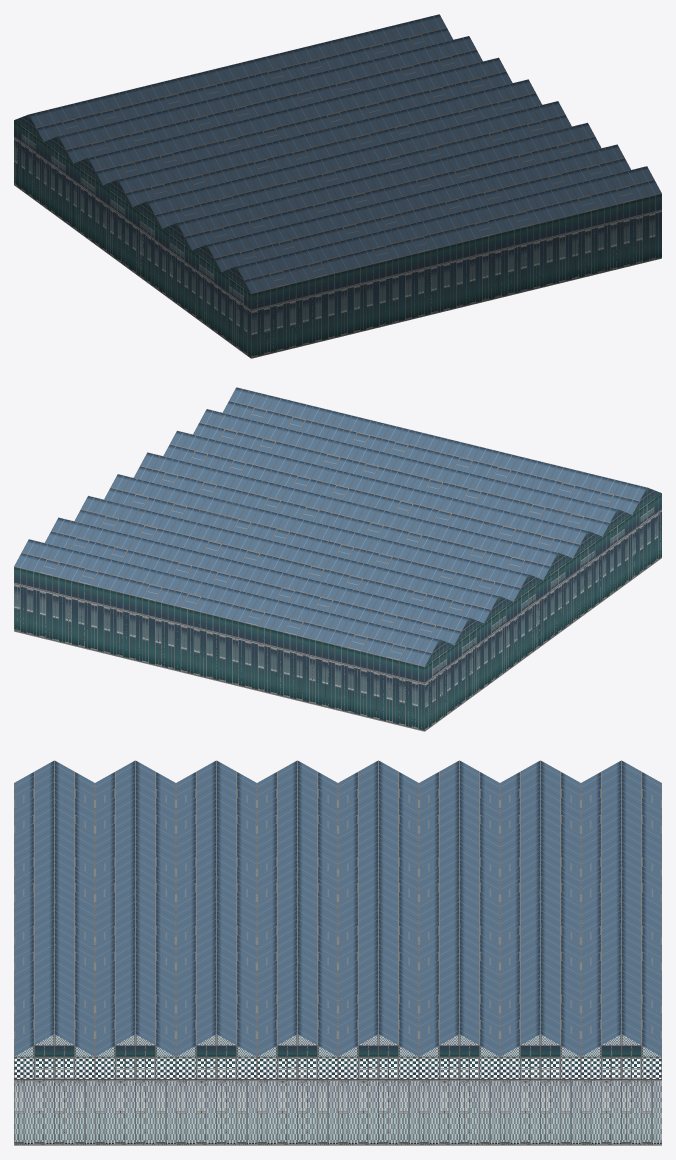
The model's file is kas_mod1_5a.fbx.
3 renders of one model, top to bottom at view 1: azimuth 30°, elevation 25°; view 2: azimuth 150°, elevation 25°; view 3: azimuth 270°, elevation 25°, orthographic. The views are drawn at different scales.
Parts seen in each view (by area): view 1: kas_mod1_5a; view 2: kas_mod1_5a; view 3: kas_mod1_5a.
Boxes of the visible parts, left/top/right/bottom form: kas_mod1_5a: left=14, top=14, right=661, bottom=358; kas_mod1_5a: left=14, top=387, right=661, bottom=731; kas_mod1_5a: left=14, top=760, right=661, bottom=1145.
Size of the model in its own units: 8000 by 1519 by 8000.
